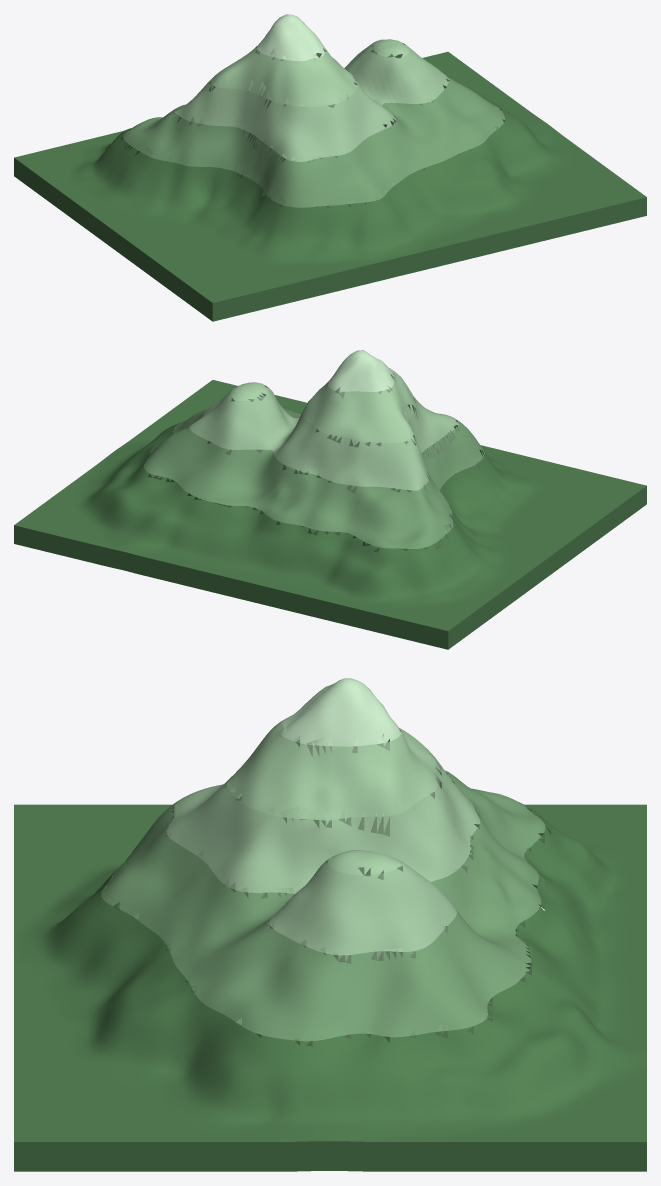
Rendered from mountain2.fbx.
3 views of the same model, one above another, from view 1: azimuth 30°, elevation 25°; view 2: azimuth 150°, elevation 25°; view 3: azimuth 270°, elevation 25° (orthographic). The views are drawn at different scales.
Parts seen in each view (by area): view 1: Plane002_7, Plane002_6, Plane002_5, Plane002_3, Plane002, Plane002_4; view 2: Plane002_7, Plane002_6, Plane002_5, Plane002_3, Plane002, Plane002_4; view 3: Plane002_7, Plane002_6, Plane002_5, Plane002_3, Plane002, Plane002_4.
Part boxes in pixels (bbox=[...]): Plane002_7: bbox=[14, 51, 646, 321]; Plane002_6: bbox=[123, 76, 504, 208]; Plane002_5: bbox=[175, 40, 449, 162]; Plane002_3: bbox=[211, 44, 357, 109]; Plane002: bbox=[257, 14, 325, 61]; Plane002_4: bbox=[373, 39, 409, 58]; Plane002_7: bbox=[14, 380, 646, 649]; Plane002_6: bbox=[144, 408, 484, 552]; Plane002_5: bbox=[189, 386, 459, 493]; Plane002_3: bbox=[301, 368, 415, 447]; Plane002: bbox=[328, 350, 394, 398]; Plane002_4: bbox=[230, 382, 268, 402]; Plane002_7: bbox=[14, 802, 646, 1171]; Plane002_6: bbox=[101, 769, 545, 1046]; Plane002_5: bbox=[166, 743, 480, 963]; Plane002_3: bbox=[227, 718, 437, 836]; Plane002: bbox=[280, 678, 401, 756]; Plane002_4: bbox=[327, 850, 400, 879].
Bounding box in the file's own units: 174 × 138 × 70.97.
